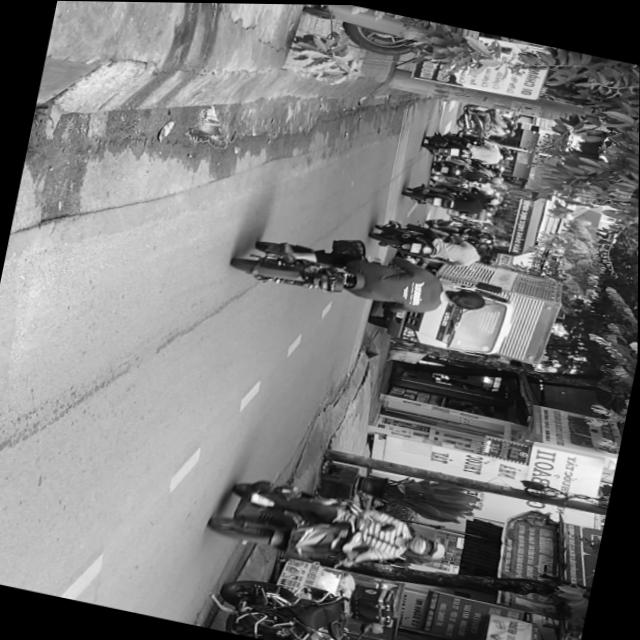helmet: (407, 534, 449, 562)
licenseplate: (205, 466, 456, 590), (230, 223, 494, 332)
motorcyclist: (443, 284, 488, 314)
